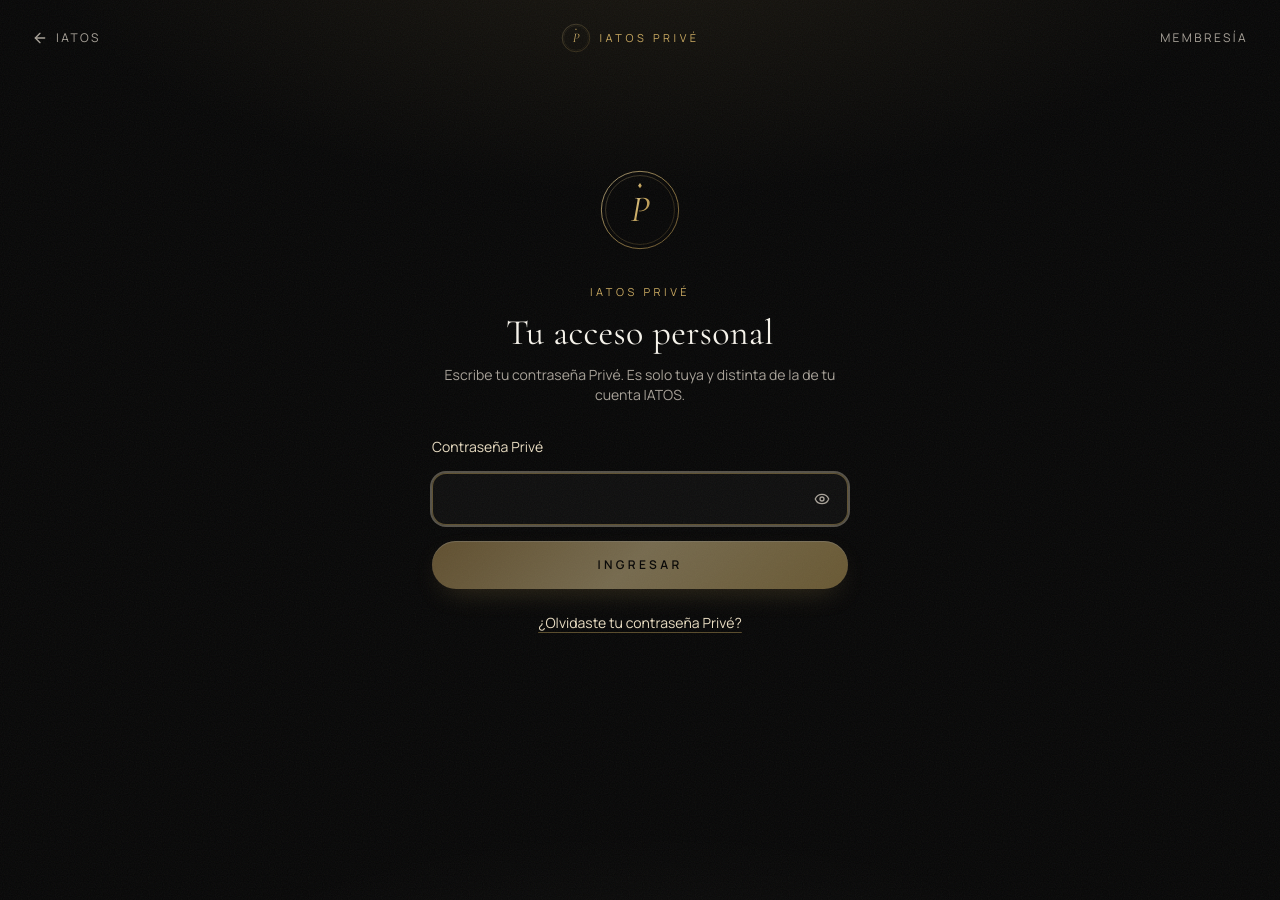
Test: candado y sesión Privé › contraseña incorrecta y bloqueo temporal: mensajes calmados
Type "otra cosa" into the password field labelled "Contraseña Privé".
click(640, 498); type("otra cosa")  # box top-left (432, 472), bottom-right (848, 524)
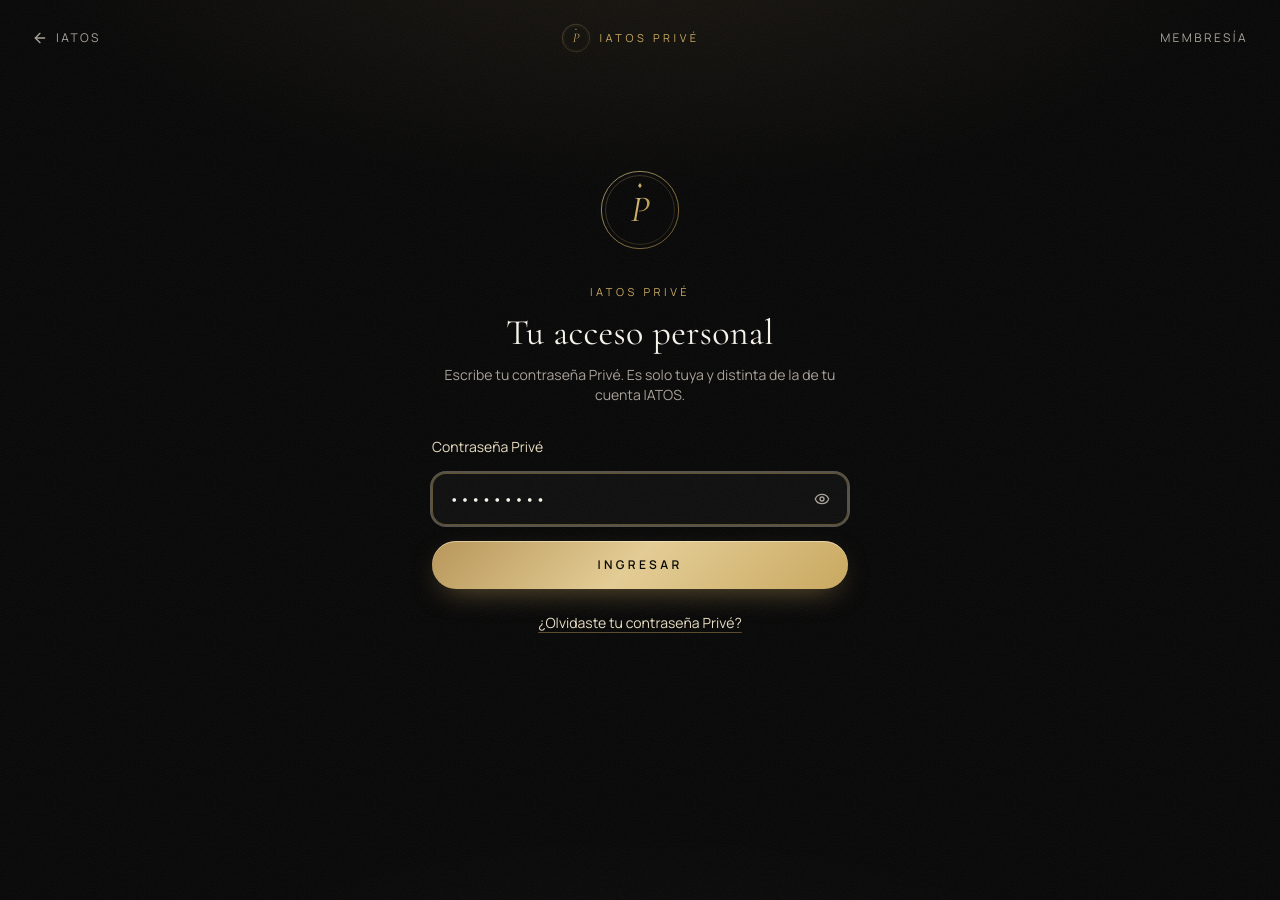
Click the button "Ingresar".
click(640, 564)  # box top-left (432, 540), bottom-right (848, 588)
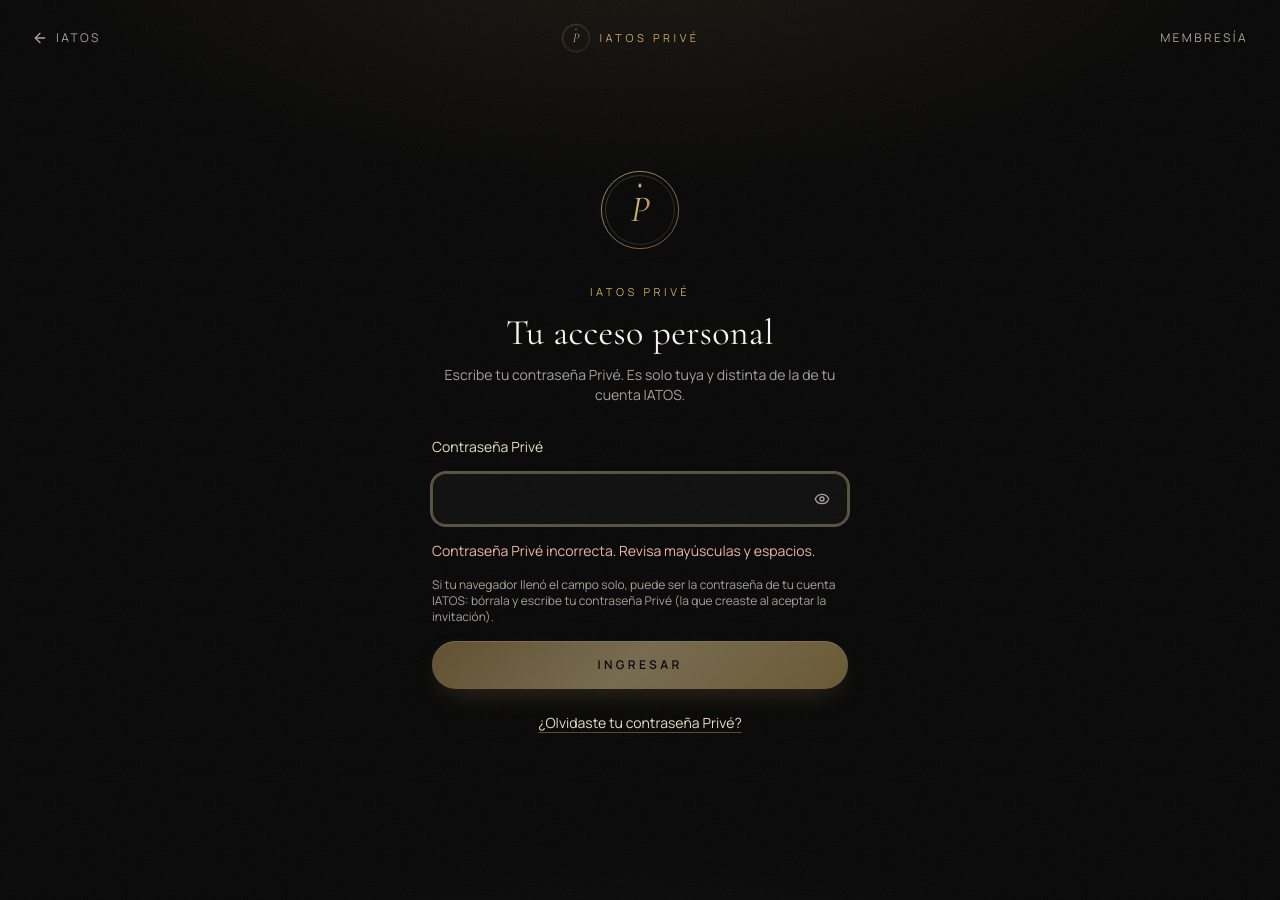
Expected: the message shows "Contraseña Privé incorrecta", top-left (432, 540), bottom-right (815, 560)
Type "otra cosa" into the password field labelled "Contraseña Privé".
click(640, 498); type("otra cosa")  # box top-left (432, 472), bottom-right (848, 524)
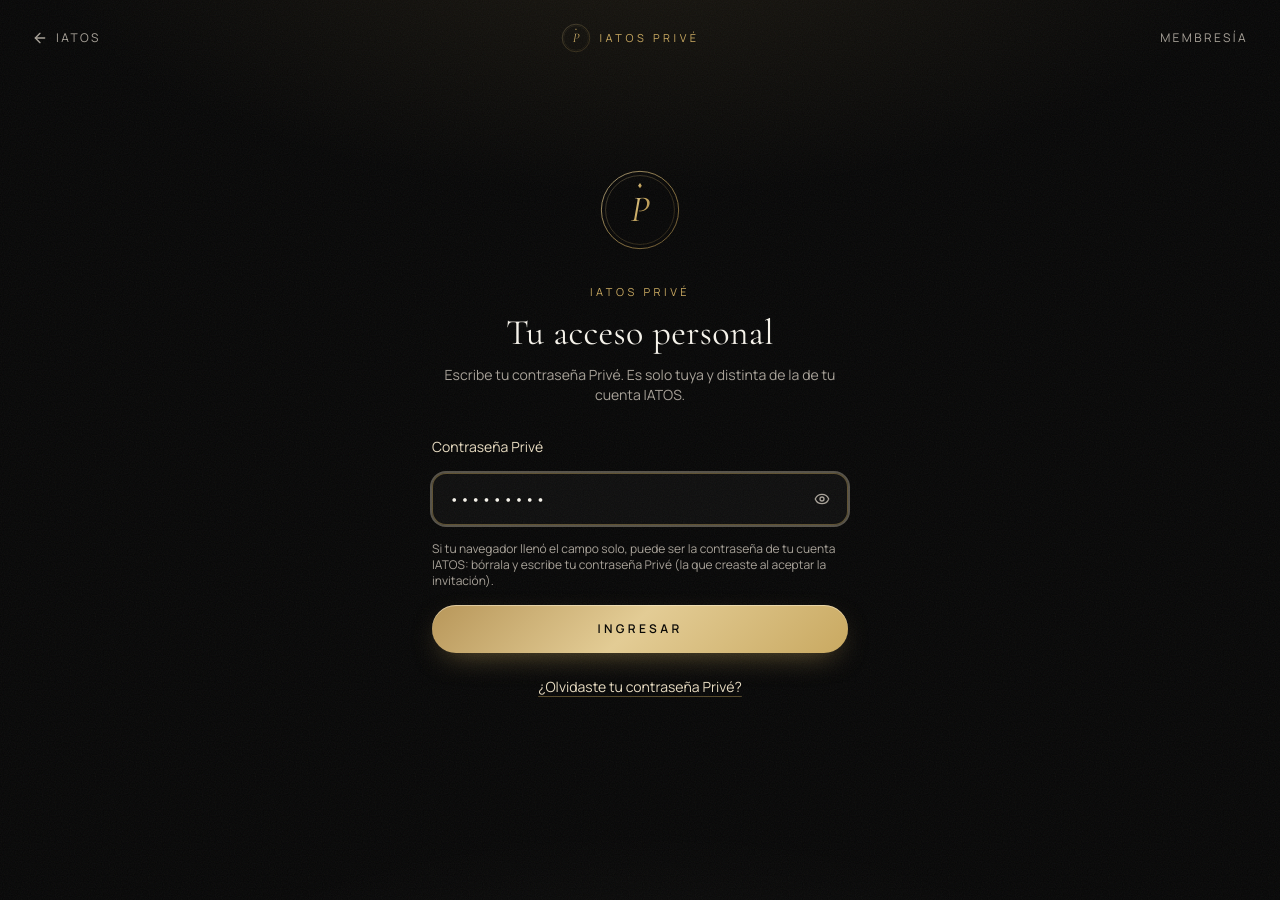
Click the button "Ingresar".
click(640, 628)  # box top-left (432, 604), bottom-right (848, 652)
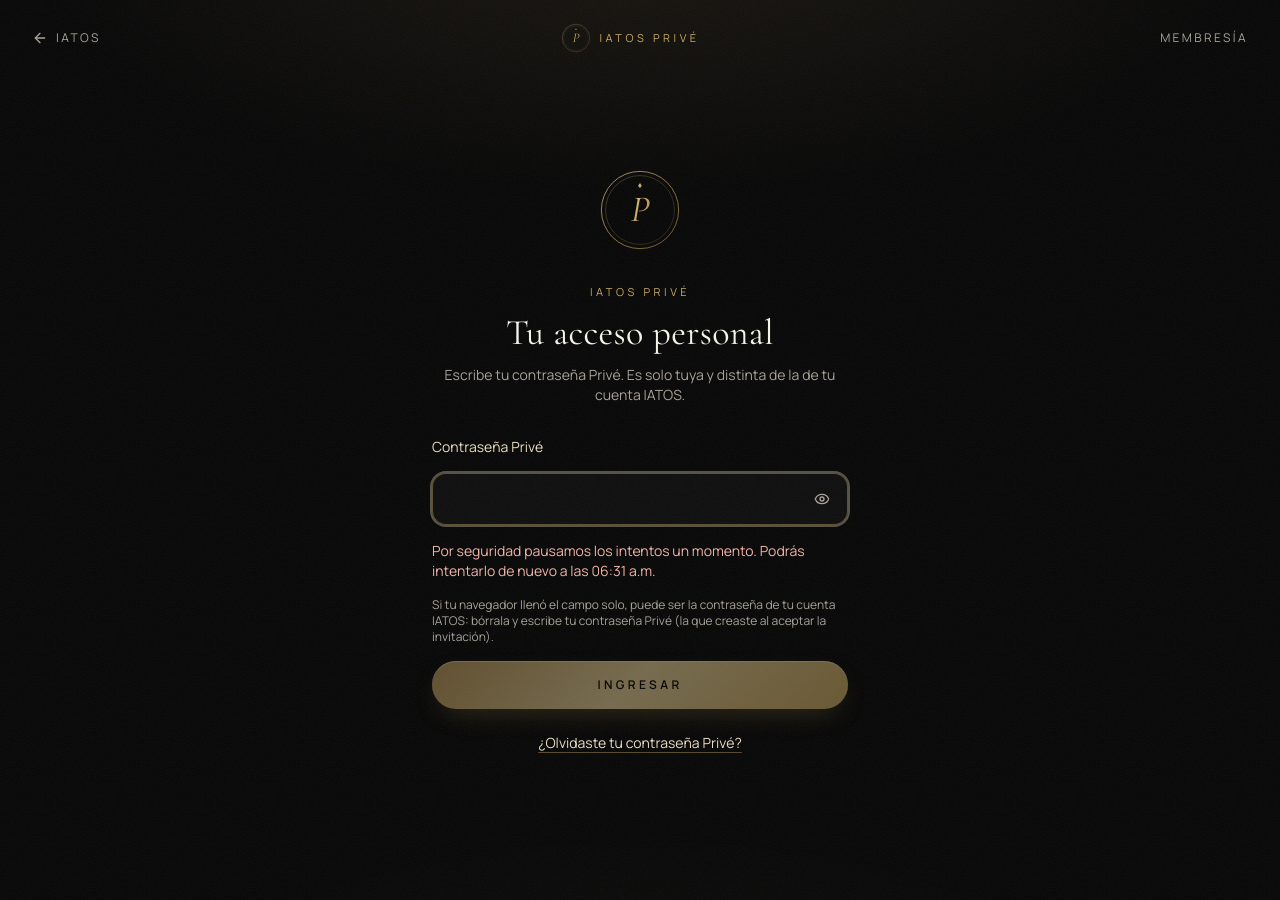
Expected: the message shows "Podrás intentarlo de nuevo a las", top-left (432, 540), bottom-right (805, 580)
